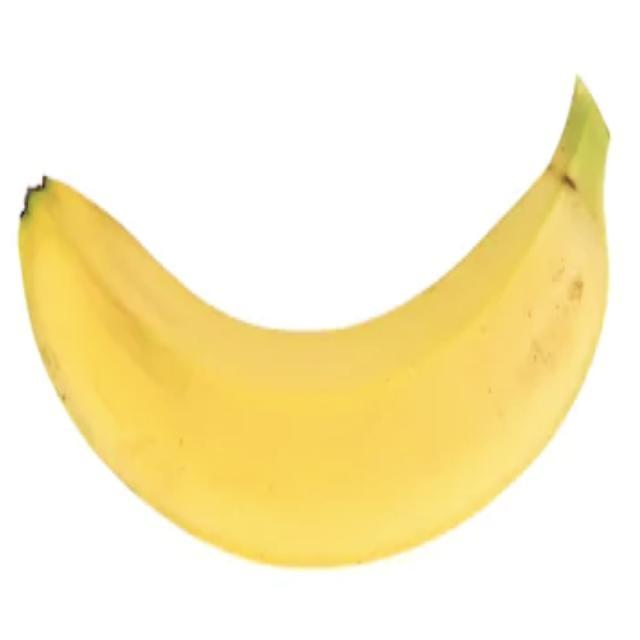Banana: (16, 73, 611, 568)
